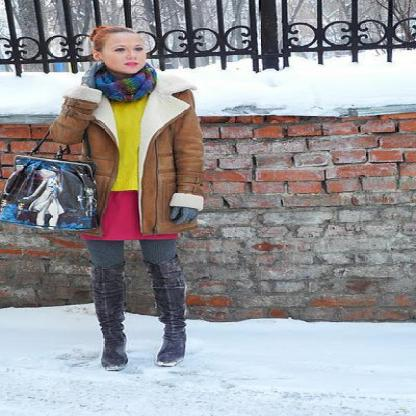bag: (0, 156, 106, 230)
jacket: (46, 78, 229, 224)
shirt: (112, 98, 147, 190)
shoe: (93, 267, 186, 367)
skirt: (70, 190, 184, 247)
